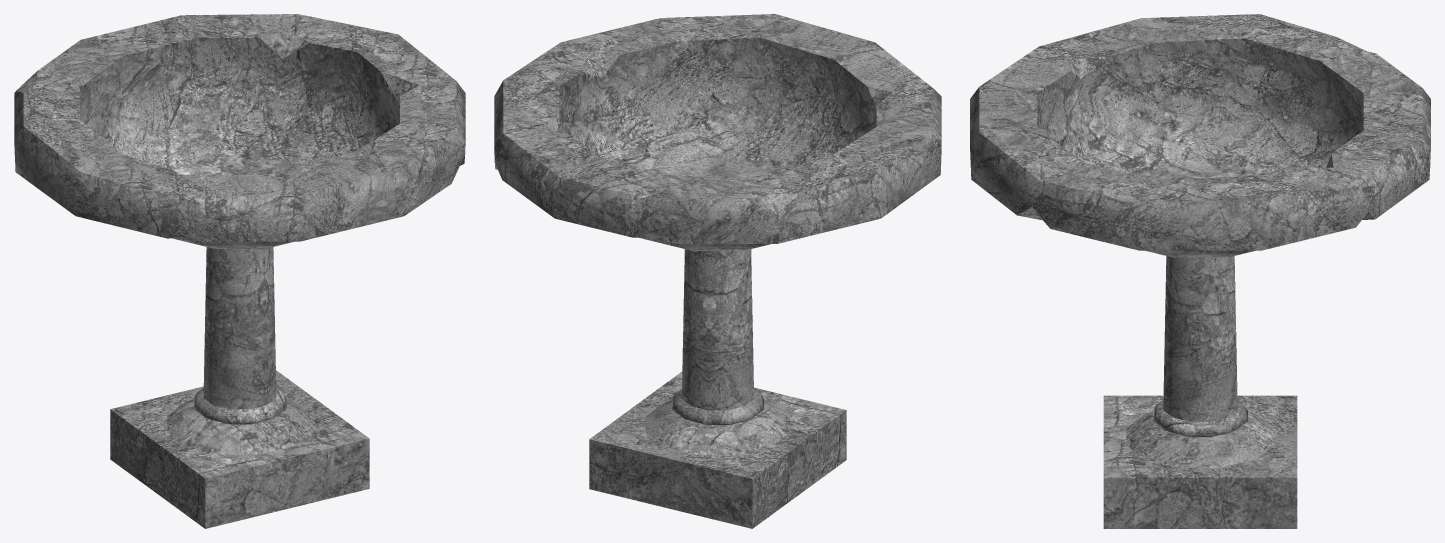
Rendered from materials_3_fountain_5.fbx.
3 renders of one model, left to right at view 1: azimuth 30°, elevation 25°; view 2: azimuth 150°, elevation 25°; view 3: azimuth 270°, elevation 25°, orthographic. The views are drawn at different scales.
Visible parts, largest first — view 1: materials_3_fountain_5; view 2: materials_3_fountain_5; view 3: materials_3_fountain_5.
Boxes of the visible parts, x1,y1,x2,y2 form: materials_3_fountain_5: (14, 14, 465, 528); materials_3_fountain_5: (494, 14, 941, 528); materials_3_fountain_5: (970, 14, 1430, 528).
Bounding box in the file's own units: 163 × 148 × 163.
